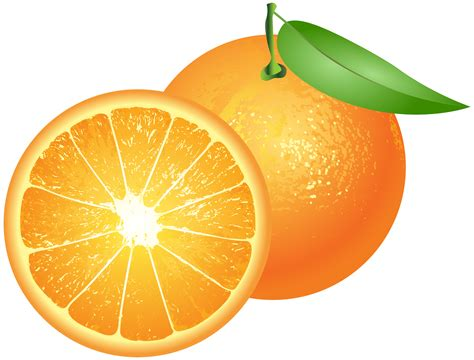orange: (150, 30, 409, 305)
